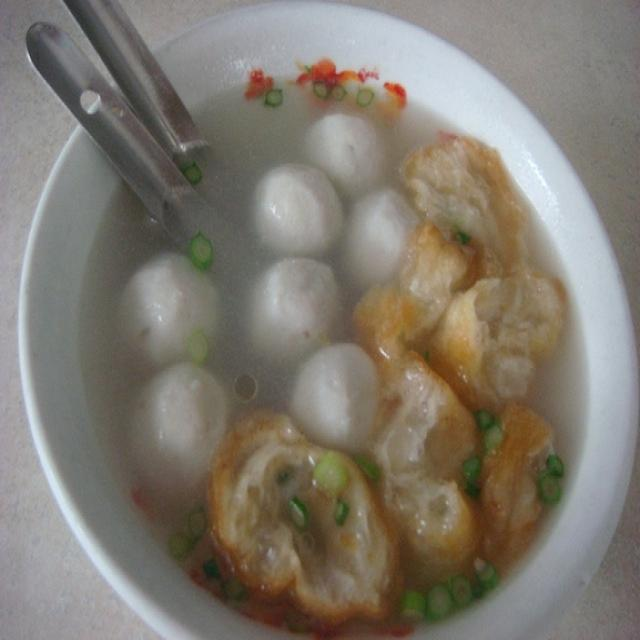熟制海鲜: (16, 5, 634, 631)
